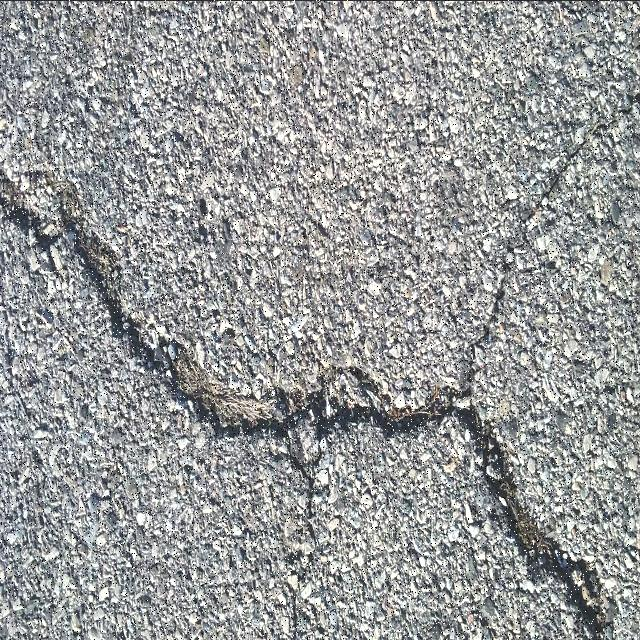Crack: (0, 88, 640, 640)
